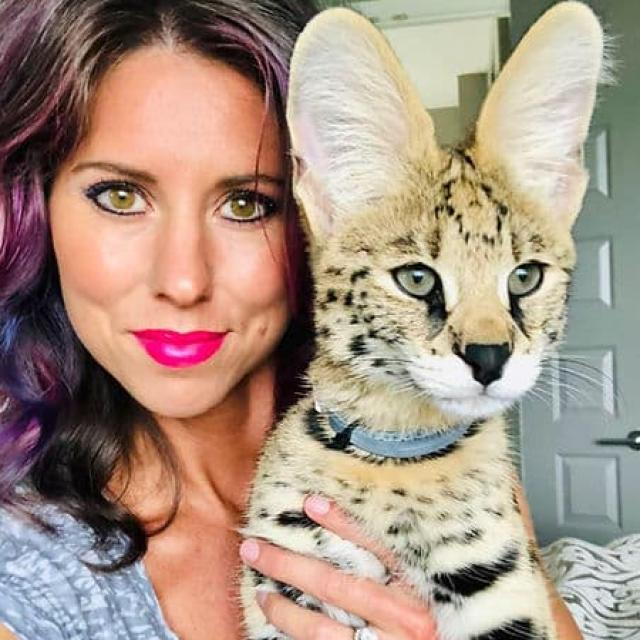Savannah: (234, 0, 608, 640)
